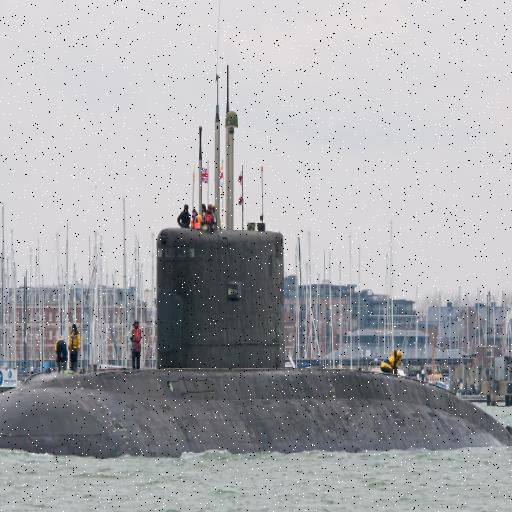submarine: (1, 63, 512, 444)
